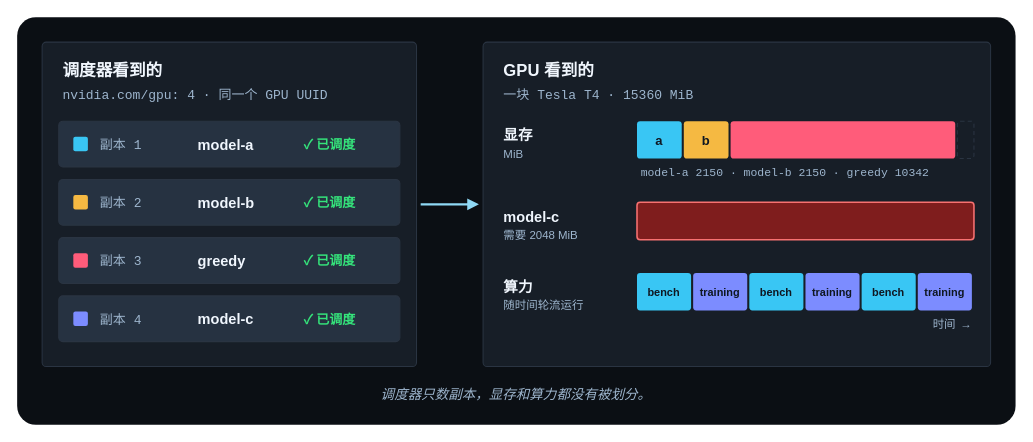
Image size: 1033x442. Some labels were removed from this diagram. The centre of each missing label's shape, as x and y in pixels:
"greedy · 10.1 GiB" belongs at [842,139].
"✕ CUDA out of memory" belongs at [805,220].
